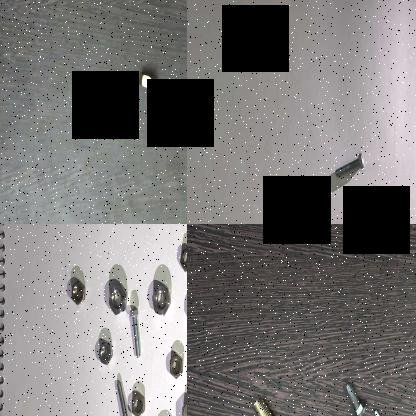Bolts: (341, 379, 369, 416), (252, 389, 288, 416), (332, 152, 366, 180), (128, 306, 144, 361), (115, 376, 133, 416), (372, 407, 397, 416)
NUTS: (106, 280, 128, 321), (137, 64, 159, 100), (148, 284, 173, 315), (168, 350, 186, 380), (68, 278, 86, 308), (128, 388, 147, 416), (98, 340, 114, 364), (175, 244, 187, 274)
